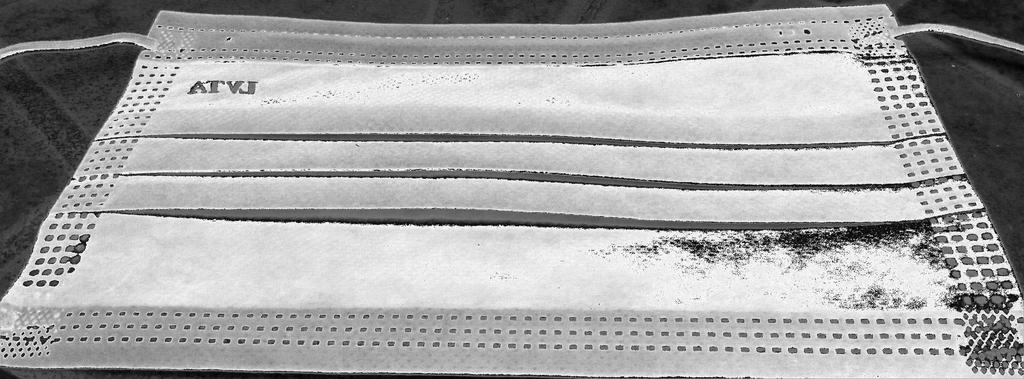High GSM: (58, 43, 962, 315)
